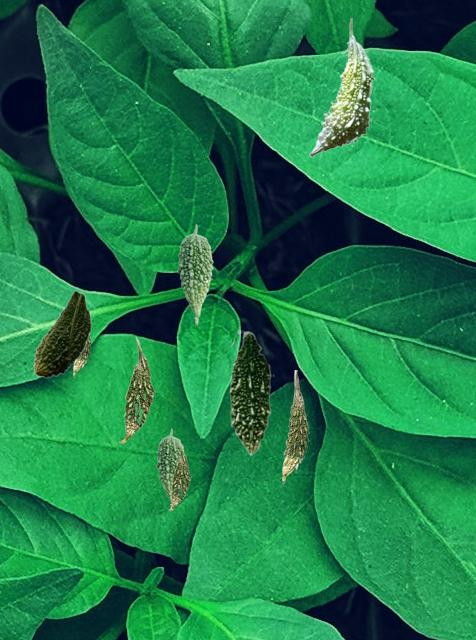ampalaya: (309, 18, 374, 156), (229, 329, 273, 455), (33, 290, 91, 377), (119, 336, 154, 442), (177, 224, 212, 324), (282, 370, 308, 483), (156, 428, 184, 507), (168, 441, 190, 509), (73, 335, 90, 376)
